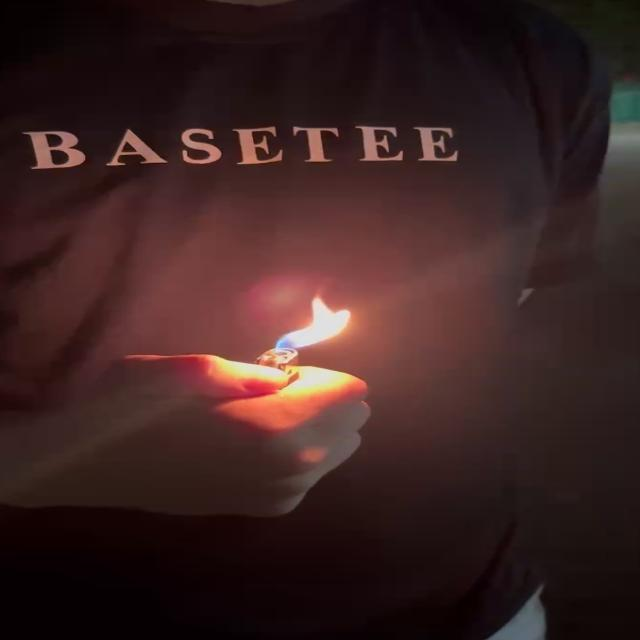Fire: (280, 299, 356, 356)
